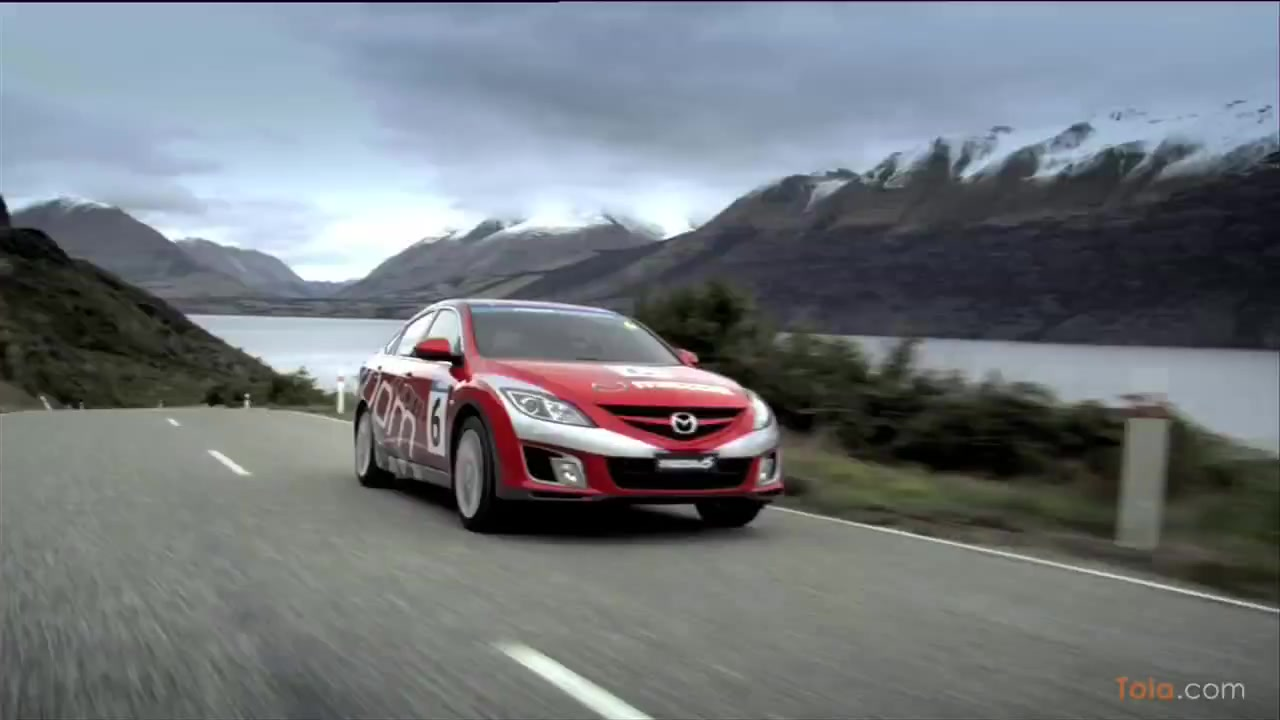car: (356, 298, 789, 542)
